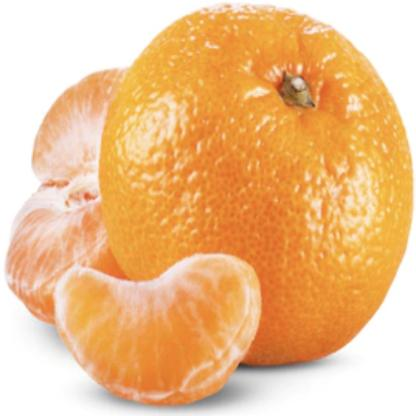fresh: (11, 5, 412, 414)
